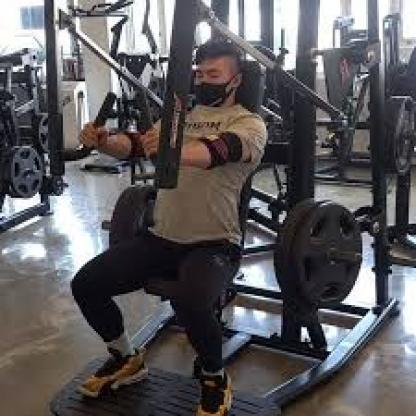Chest Press machine: (50, 0, 396, 416)
